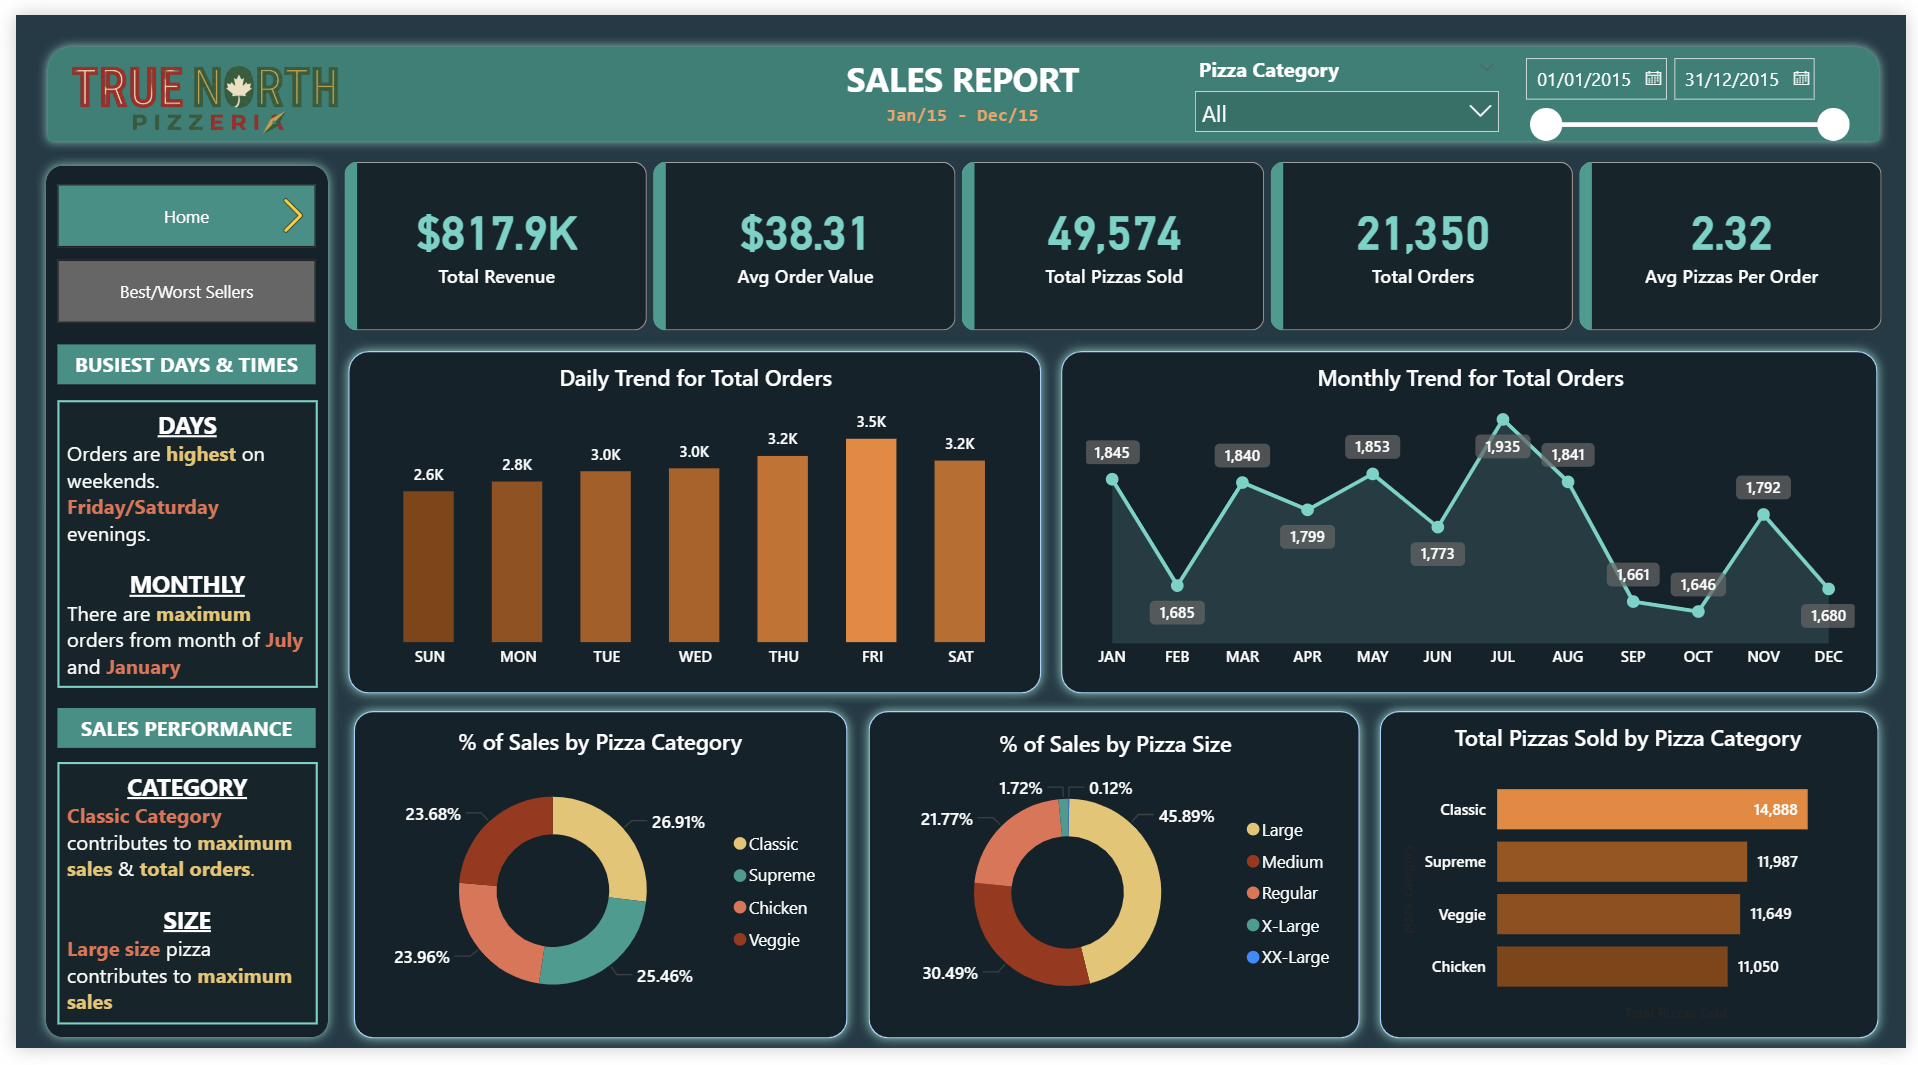

What the dashboard file says about the page in this screenshot:
{"tool":"powerbi","page":{"name":"Home","canvas":[1500,820],"ordinal":0},"visuals":[{"type":"cardVisual","fields":{"Data":["pizza_sales.Total Revenue","pizza_sales.Avg Order Value","pizza_sales.Total Pizzas Sold","pizza_sales.Total Orders","pizza_sales.Avg Pizzas Per Order"]},"box":[256,112,1230,144],"z":0},{"type":"shape","box":[16.7,16.7,1469.5,91],"z":1000},{"type":"textbox","box":[603.6,27.3,294.2,48.5],"z":2000},{"type":"textbox","box":[682.4,63.7,136.5,31.8],"z":3000},{"type":"shape","box":[256,258,566,288],"z":4000},{"type":"columnChart","title":"Daily Trend for Total Orders","fields":{"Category":["pizza_sales.Order Day"],"Y":["pizza_sales.Total Orders"]},"box":[274,276,530,252],"z":5000},{"type":"shape","box":[822,258,664,288],"z":6000},{"type":"areaChart","title":"Monthly Trend for Total Orders","fields":{"Y":["pizza_sales.Total Orders"],"Category":["pizza_sales.Order Month"]},"box":[844,276,620,252],"z":7000},{"type":"shape","box":[260,544,408,276],"z":8000},{"type":"shape","box":[668,544,406,276],"z":9000},{"type":"shape","box":[1074,544,412,276],"z":10000},{"type":"donutChart","title":"% of Sales by Pizza Category","fields":{"Category":["pizza_sales.pizza_category"],"Y":["pizza_sales.Total Revenue"]},"box":[278,564,370,238],"z":11000},{"type":"donutChart","title":"% of Sales by Pizza Size","fields":{"Y":["pizza_sales.Total Revenue"],"Category":["pizza_sales.pizza_size"]},"box":[688,566,368,238],"z":12000},{"type":"clusteredBarChart","title":"Total Pizzas Sold by Pizza Category","fields":{"Category":["pizza_sales.pizza_category"],"Y":["pizza_sales.Total Pizzas Sold"]},"box":[1094,562,370,242],"z":13000},{"type":"shape","box":[16,112,240,708],"z":14000},{"type":"textbox","box":[33.3,261.7,205,31.7],"z":15000},{"type":"textbox","box":[33.3,305,206.7,228.3],"z":16000},{"type":"textbox","box":[33.3,593.3,206.7,208.3],"z":17000},{"type":"textbox","box":[33.3,550,205,31.7],"z":18000},{"type":"slicer","fields":{"Values":["pizza_sales.pizza_category"]},"box":[925.1,27.3,260.8,74.3],"z":19000},{"type":"slicer","fields":{"Values":["pizza_sales.order_date"]},"box":[1185.9,24.3,277.5,83.4],"z":20000},{"type":"pageNavigator","box":[32.9,134.3,205.7,50],"z":21000},{"type":"pageNavigator","box":[32.9,194.3,205.7,50],"z":22000},{"type":"image","box":[201.4,137.1,37.1,44.3],"z":23000},{"type":"image","box":[0,6.9,299.9,117.9],"z":24000}]}

Visuals, with their boxes in screenshot pixels (x1, y1, x2, y2), scaled from the page's 1500x820 canvas onto the 1918x1065 screenshot:
cardVisual - pizza_sales.Total Revenue x pizza_sales.Avg Order Value: bbox(327, 145, 1900, 332)
shape: bbox(21, 22, 1900, 140)
textbox: bbox(772, 35, 1148, 98)
textbox: bbox(873, 83, 1047, 124)
shape: bbox(327, 335, 1051, 709)
"Daily Trend for Total Orders" columnChart: bbox(350, 358, 1028, 686)
shape: bbox(1051, 335, 1900, 709)
"Monthly Trend for Total Orders" areaChart: bbox(1079, 358, 1872, 686)
shape: bbox(332, 707, 854, 1064)
shape: bbox(854, 707, 1373, 1064)
shape: bbox(1373, 707, 1900, 1064)
"% of Sales by Pizza Category" donutChart: bbox(355, 733, 829, 1042)
"% of Sales by Pizza Size" donutChart: bbox(880, 735, 1350, 1044)
"Total Pizzas Sold by Pizza Category" clusteredBarChart: bbox(1399, 730, 1872, 1044)
shape: bbox(20, 145, 327, 1064)
textbox: bbox(43, 340, 305, 381)
textbox: bbox(43, 396, 307, 693)
textbox: bbox(43, 771, 307, 1041)
textbox: bbox(43, 714, 305, 756)
slicer - pizza_sales.pizza_category: bbox(1183, 35, 1516, 132)
slicer - pizza_sales.order_date: bbox(1516, 32, 1871, 140)
pageNavigator: bbox(42, 174, 305, 239)
pageNavigator: bbox(42, 252, 305, 317)
image: bbox(258, 178, 305, 236)
image: bbox(0, 9, 383, 162)
